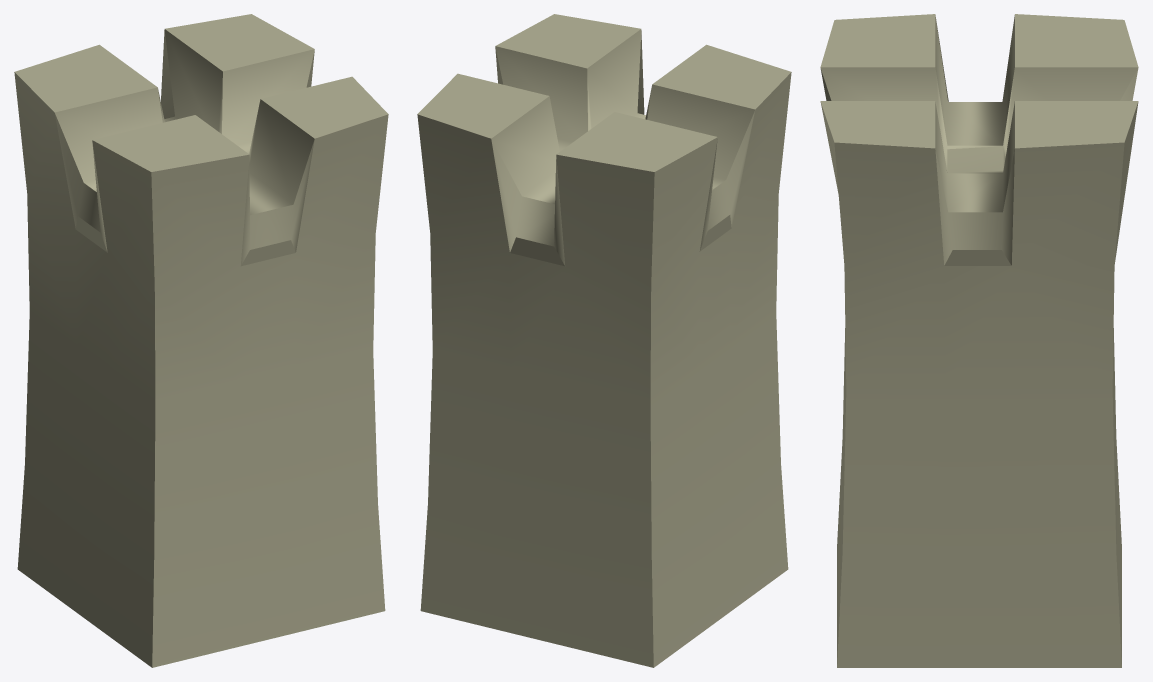
The model's file is Castle_Square_001.fbx.
The picture shows the model from 3 angles, left to right: view 1: azimuth 30°, elevation 25°; view 2: azimuth 150°, elevation 25°; view 3: azimuth 270°, elevation 25°; orthographic projection. The views are drawn at different scales.
Parts seen in each view (by area): view 1: Castle1; view 2: Castle1; view 3: Castle1.
Boxes of the visible parts, bbox=[...] form: Castle1: bbox=[14, 14, 388, 667]; Castle1: bbox=[417, 14, 791, 667]; Castle1: bbox=[820, 14, 1138, 667].
Bounding box in the file's own units: 8.24 × 15.05 × 8.24.
